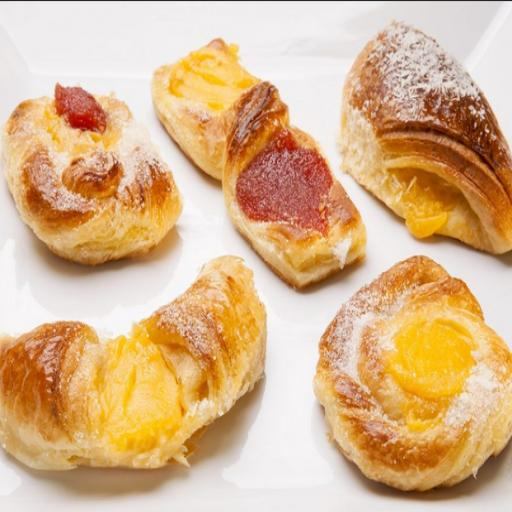bolleria: (0, 256, 266, 470), (152, 40, 366, 288), (315, 257, 511, 491), (340, 23, 511, 254), (2, 84, 182, 265)
